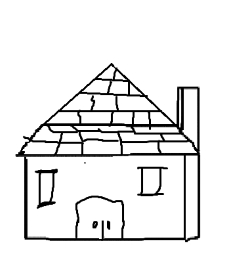bottom_placed_house: (0, 0, 239, 260)
chimney: (174, 79, 214, 152)
door: (72, 188, 131, 245)
open_window: (129, 162, 175, 204), (30, 162, 63, 211)
roof: (13, 58, 205, 159)
wall: (17, 145, 190, 248)
